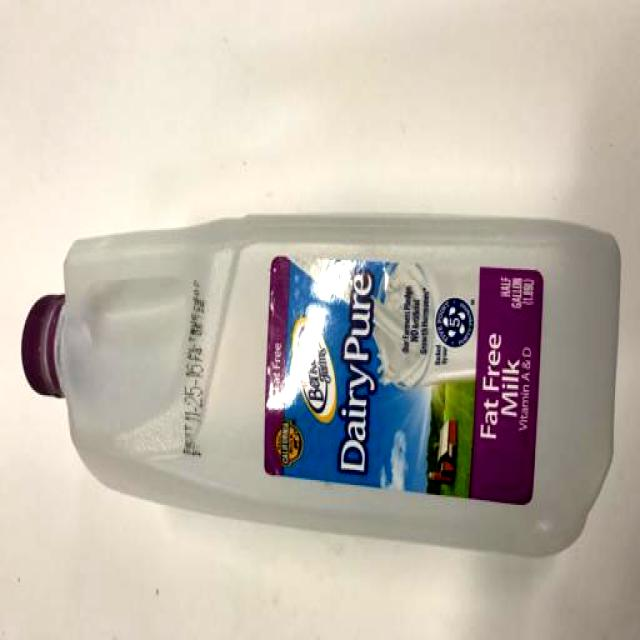plastic: (19, 202, 617, 552)
